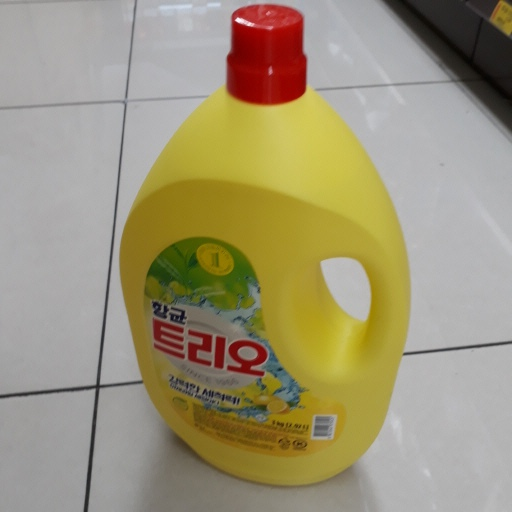Plastic_1: (121, 4, 410, 487)
